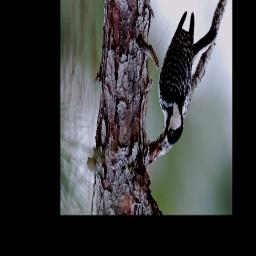Woodpecker: (156, 10, 217, 151)
